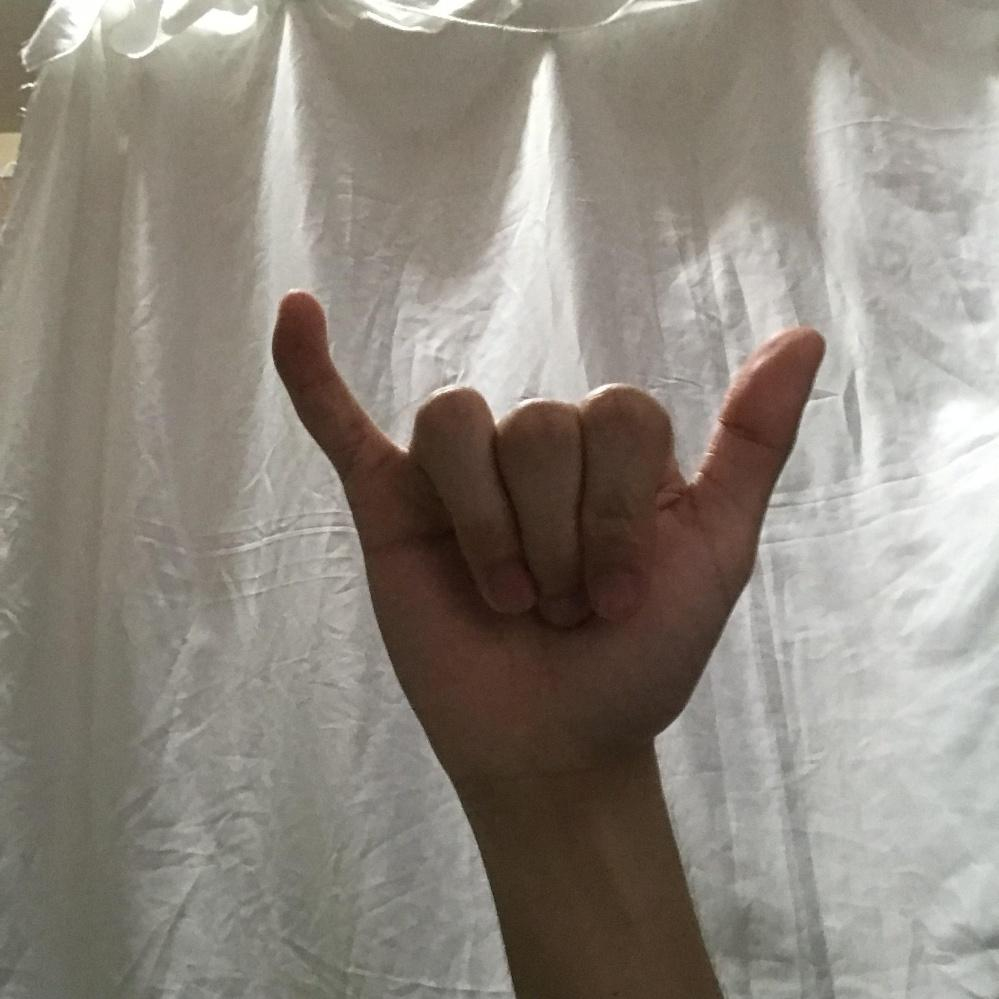y: (271, 290, 827, 739)
